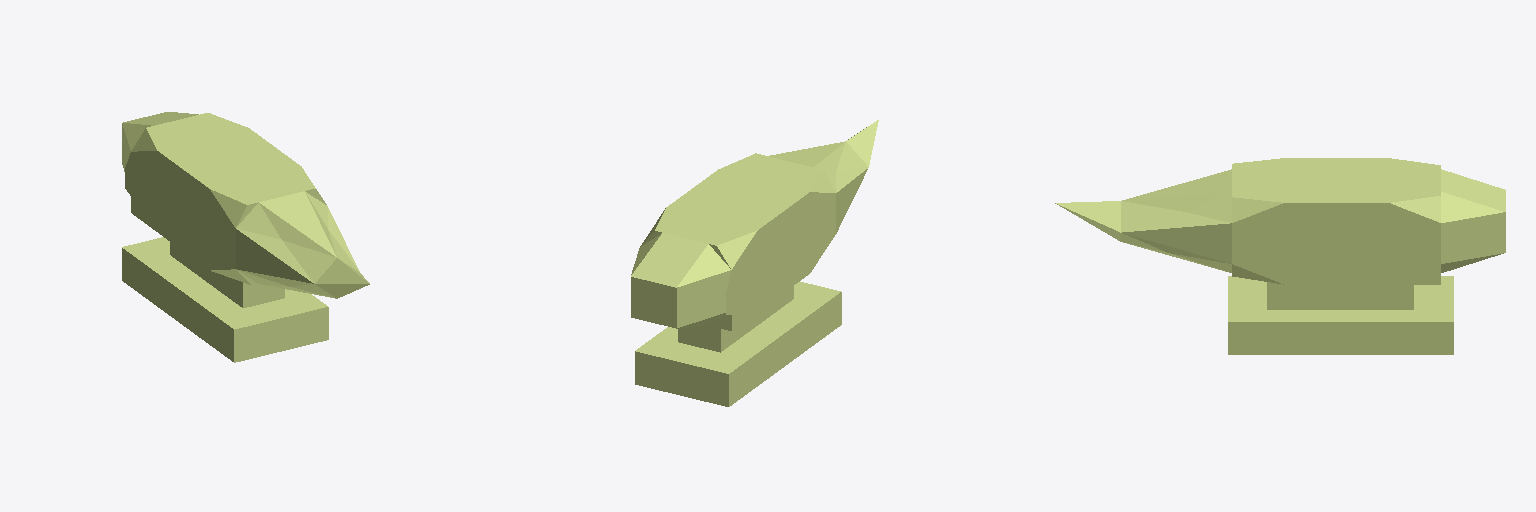
Rendered from Anvil.obj.
3 views of the same model, side by side, from view 1: azimuth 30°, elevation 25°; view 2: azimuth 150°, elevation 25°; view 3: azimuth 270°, elevation 25° (orthographic).
Parts seen in each view (by area): view 1: Box003; view 2: Box003; view 3: Box003.
Boxes of the visible parts, box(x1,y1,x2,y2) form: Box003: box(122, 112, 369, 362); Box003: box(631, 120, 878, 406); Box003: box(1055, 158, 1505, 354).
Bounding box in the file's own units: 57.91 × 88.61 × 237.